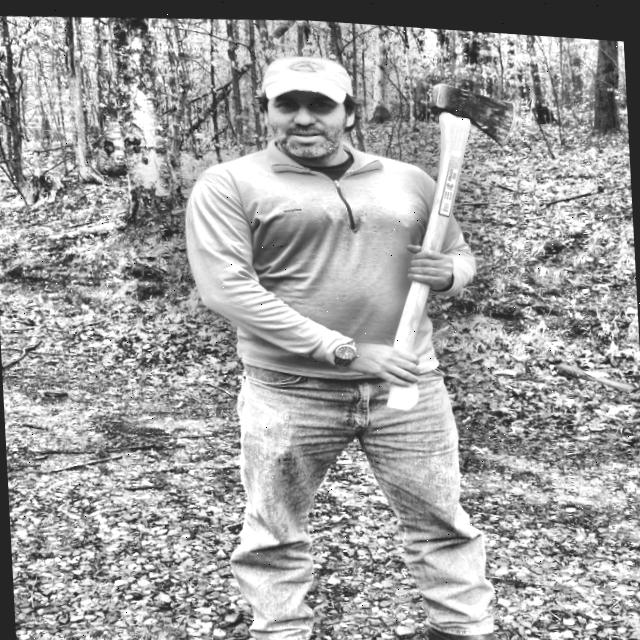kapak: (367, 75, 528, 427)
